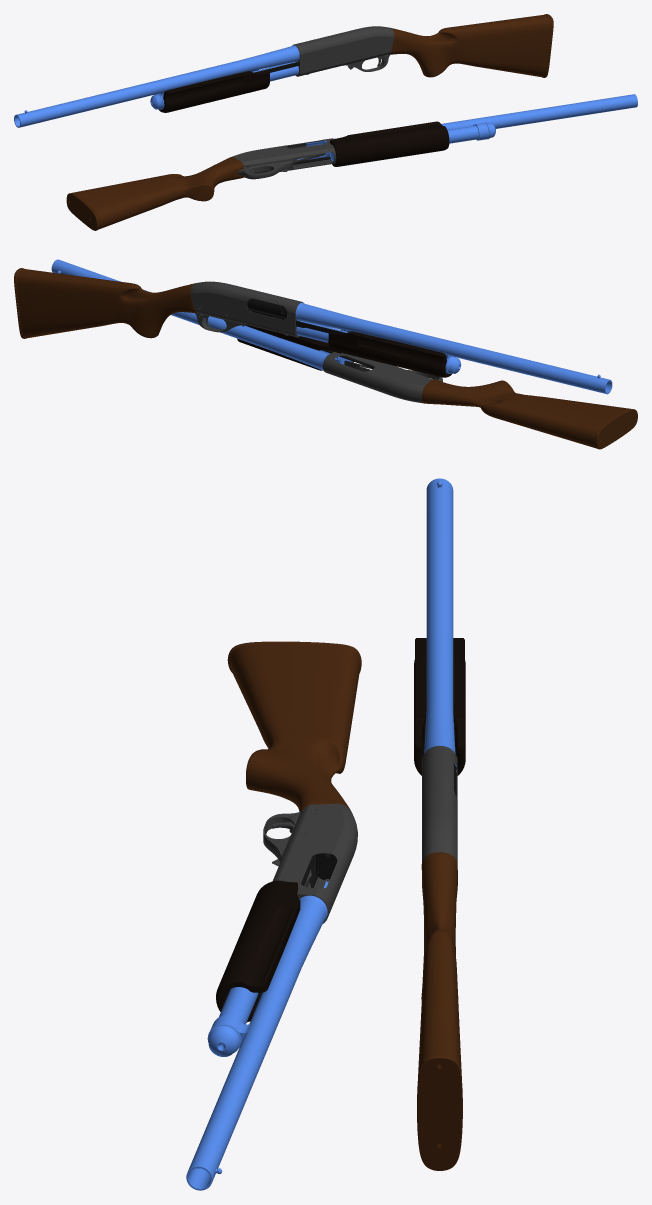
The model's file is R870WM_Deluxe_SF.fbx.
The picture shows the model from 3 angles, top to bottom: view 1: azimuth 30°, elevation 25°; view 2: azimuth 150°, elevation 25°; view 3: azimuth 270°, elevation 25°; orthographic projection. The views are drawn at different scales.
Visible parts, largest first — view 1: R870_GunButt_WM2, R870_GunButt_WM003, R870_BarrelMag_B20M4_WM, R870_HandGuard_WM003, R870_Base, R870_BarrelMag_B20M4_WM001, R870_HandGuard_WM2, R870_Base001; view 2: R870_GunButt_WM2, R870_GunButt_WM003, R870_BarrelMag_B20M4_WM, R870_Base, R870_HandGuard_WM2, R870_Base001, R870_BarrelMag_B20M4_WM001, R870_HandGuard_WM003, R870_mechanism; view 3: R870_GunButt_WM003, R870_GunButt_WM2, R870_BarrelMag_B20M4_WM001, R870_BarrelMag_B20M4_WM, R870_Base001, R870_HandGuard_WM003, R870_Base, R870_HandGuard_WM2.
Boxes of the visible parts, x1=… form: R870_GunButt_WM2: x1=388, y1=14, x2=553, y2=77; R870_GunButt_WM003: x1=66, y1=156, x2=243, y2=230; R870_BarrelMag_B20M4_WM: x1=14, y1=45, x2=299, y2=127; R870_HandGuard_WM003: x1=330, y1=121, x2=449, y2=166; R870_Base: x1=292, y1=26, x2=394, y2=76; R870_BarrelMag_B20M4_WM001: x1=297, y1=94, x2=637, y2=161; R870_HandGuard_WM2: x1=158, y1=69, x2=269, y2=112; R870_Base001: x1=233, y1=138, x2=336, y2=179; R870_GunButt_WM2: x1=14, y1=268, x2=196, y2=338; R870_GunButt_WM003: x1=422, y1=379, x2=637, y2=449; R870_BarrelMag_B20M4_WM: x1=287, y1=302, x2=612, y2=394; R870_Base: x1=190, y1=281, x2=303, y2=337; R870_HandGuard_WM2: x1=328, y1=329, x2=451, y2=377; R870_Base001: x1=323, y1=352, x2=442, y2=403; R870_BarrelMag_B20M4_WM001: x1=51, y1=259, x2=351, y2=370; R870_HandGuard_WM003: x1=237, y1=325, x2=353, y2=370; R870_mechanism: x1=247, y1=298, x2=345, y2=333; R870_GunButt_WM003: x1=227, y1=641, x2=361, y2=812; R870_GunButt_WM2: x1=417, y1=852, x2=462, y2=1170; R870_BarrelMag_B20M4_WM001: x1=186, y1=881, x2=328, y2=1190; R870_BarrelMag_B20M4_WM: x1=424, y1=478, x2=456, y2=772; R870_Base001: x1=263, y1=803, x2=357, y2=923; R870_HandGuard_WM003: x1=216, y1=880, x2=300, y2=1022; R870_Base: x1=422, y1=746, x2=457, y2=862; R870_HandGuard_WM2: x1=414, y1=638, x2=465, y2=775.
Size of the model in its own units: 105 by 22.75 by 16.65.
